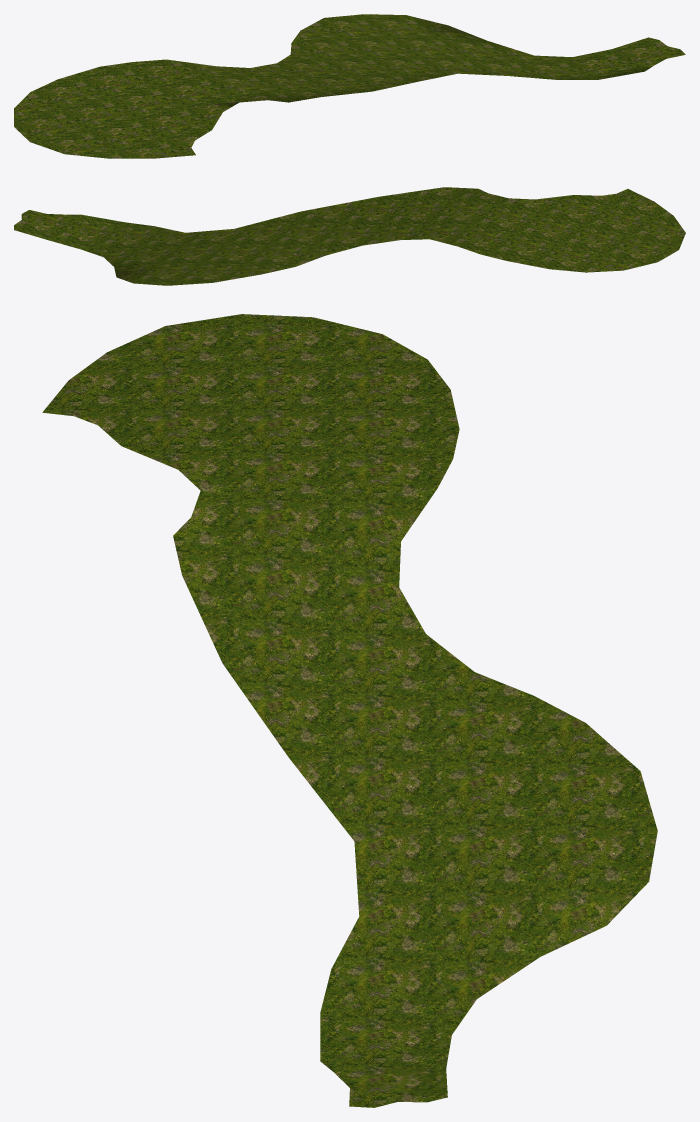
The model's file is OVERHILL_A_01_LINE07.fbx.
The picture shows the model from 3 angles, top to bottom: view 1: azimuth 30°, elevation 25°; view 2: azimuth 150°, elevation 25°; view 3: azimuth 270°, elevation 25°; orthographic projection. The views are drawn at different scales.
Visible parts, largest first — view 1: OVERHILL_A_01_LINE07; view 2: OVERHILL_A_01_LINE07; view 3: OVERHILL_A_01_LINE07.
Part boxes in pixels (x1,y1,x2,y2): OVERHILL_A_01_LINE07: [14, 14, 685, 158]; OVERHILL_A_01_LINE07: [14, 187, 685, 285]; OVERHILL_A_01_LINE07: [42, 314, 657, 1107].
Bounding box in the file's own units: 284413 × 41064 × 121425.
1 material, 1 textured.
